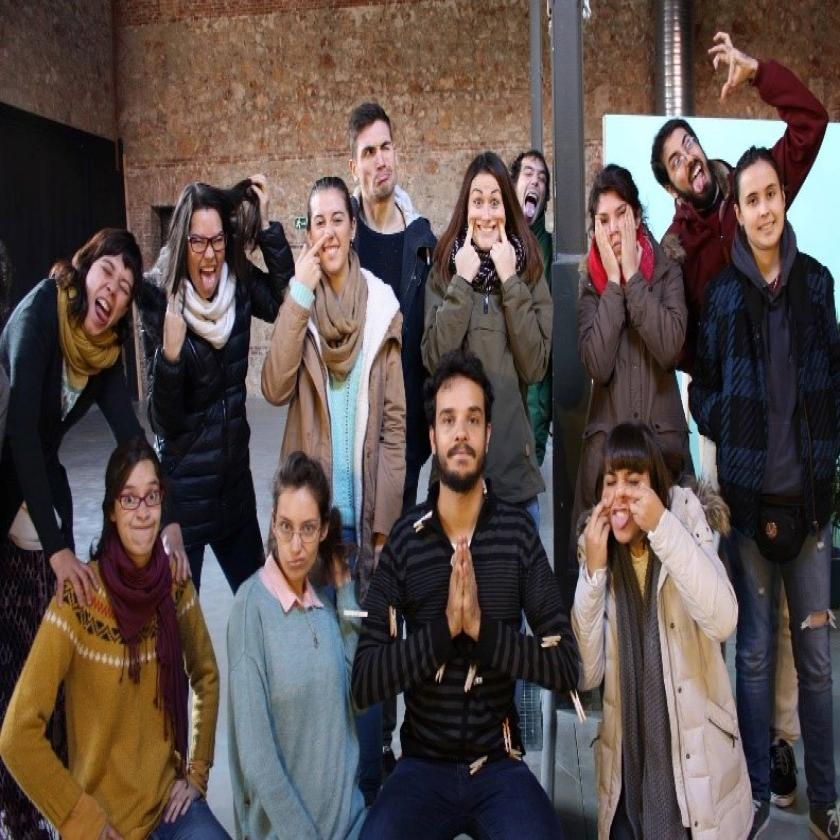Sin_casco: (418, 352, 492, 494), (169, 181, 242, 319), (75, 206, 143, 343), (104, 437, 170, 570), (269, 452, 331, 590), (599, 416, 655, 566), (654, 112, 720, 214), (346, 104, 406, 212), (734, 150, 788, 270), (299, 177, 359, 284), (466, 146, 513, 271), (588, 168, 640, 278), (516, 142, 553, 237)
